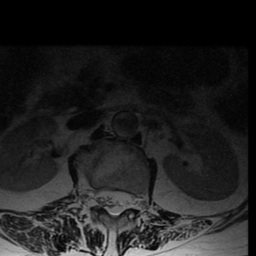CCS_normal: (108, 177, 119, 227)
LFS_normal: (130, 181, 142, 219)
LLS_normal: (119, 177, 130, 219)
RFS_normal: (87, 175, 96, 215)
RLS_normal: (96, 176, 108, 219)
